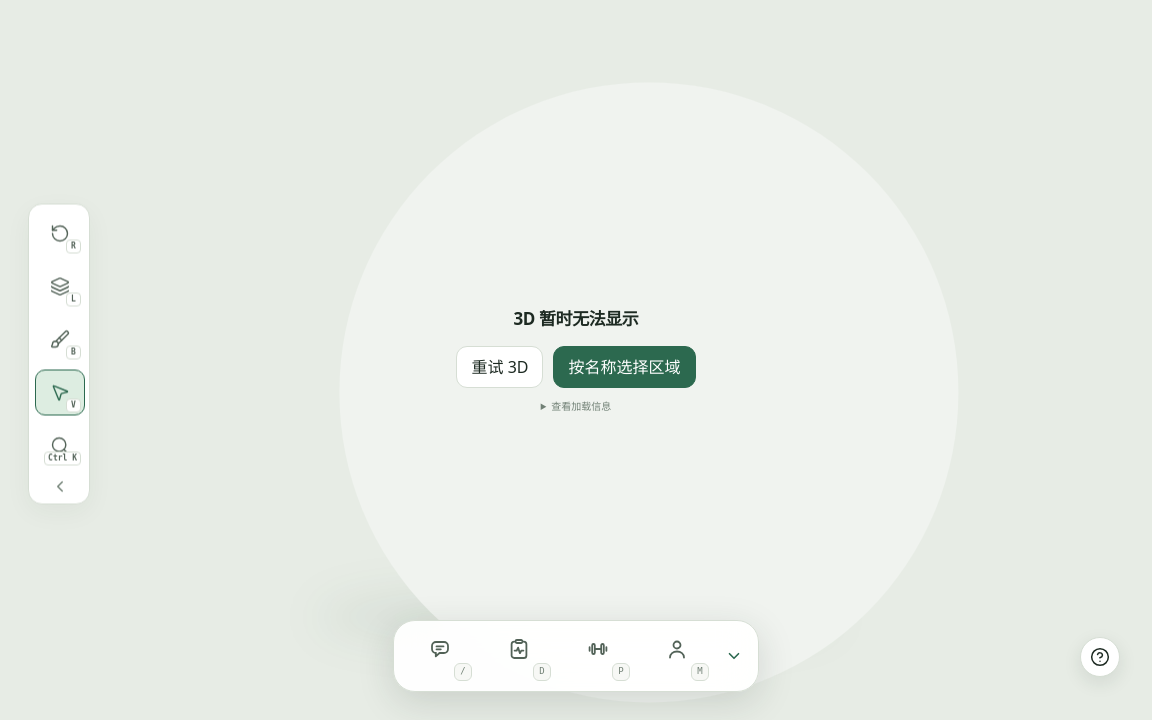
body-first business windows › collapses Person Media to the first rows behind 查看全部
The image size is (1152, 720).
Click the button "M".
click(677, 656)  # box [641,627,713,685]
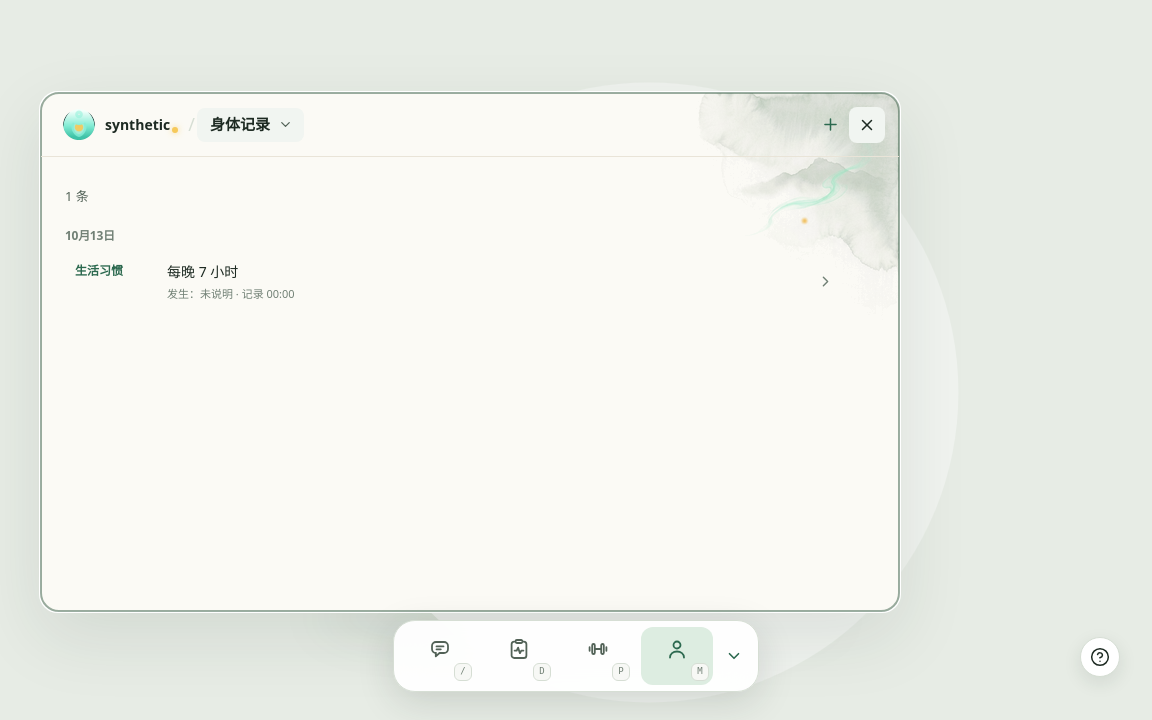
Expected: the element with test id "person-window" is shown, [65,187,860,314]
Click the button named "档案分类".
click(250, 124)  # box [197,108,304,142]
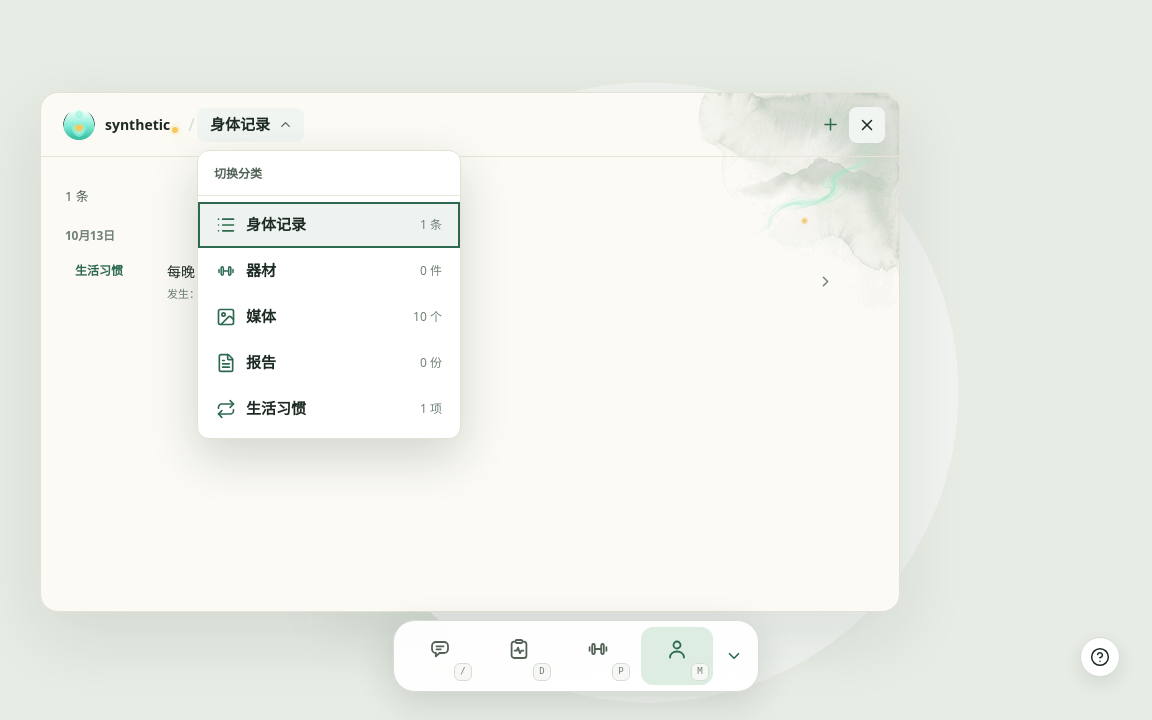
Click the option "媒体 10 个".
click(261, 316)  # box [216,306,442,327]
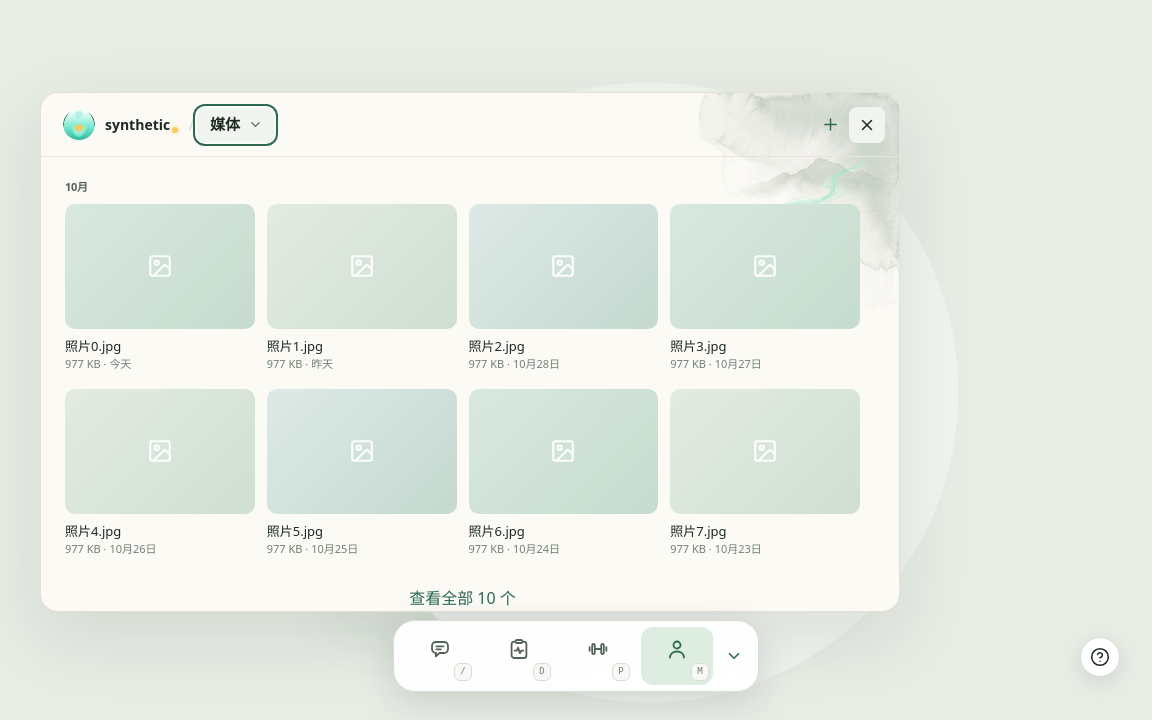
Expected: the number of list items with test id "person-media-tile" is 8
Click the button "查看全部 10 个".
click(463, 598)  # box [409,582,516,614]
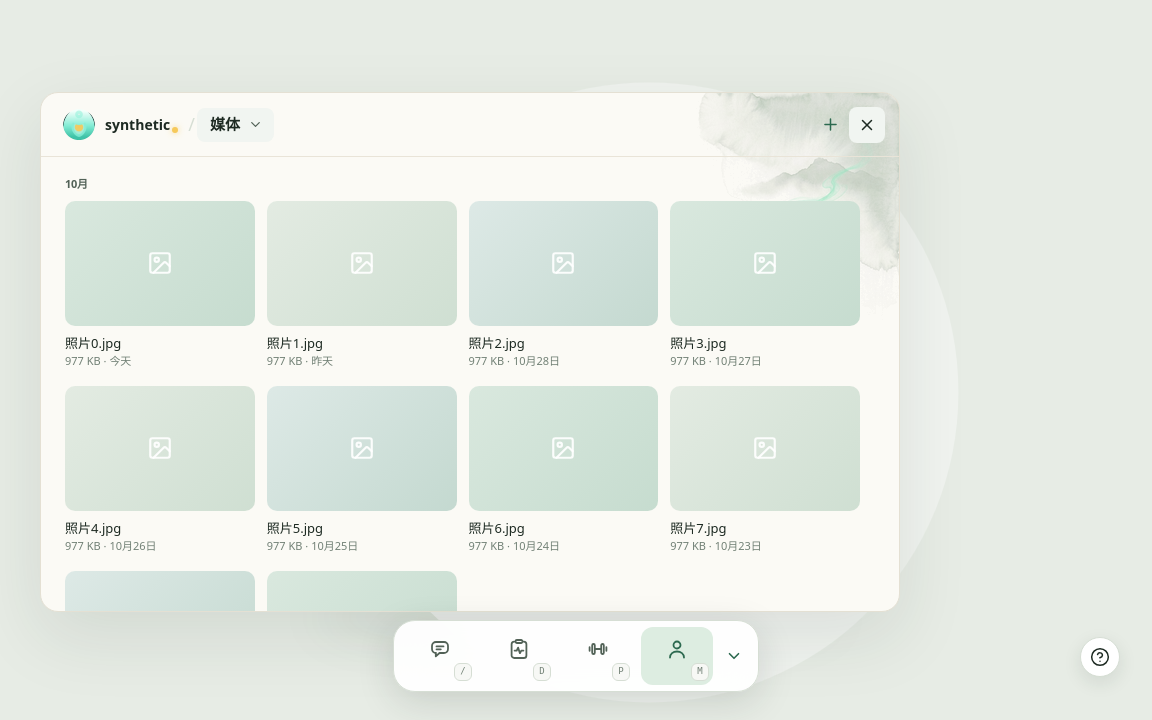
Expected: the number of list items with test id "person-media-tile" is 10
Expected: the button "查看全部" is gone
